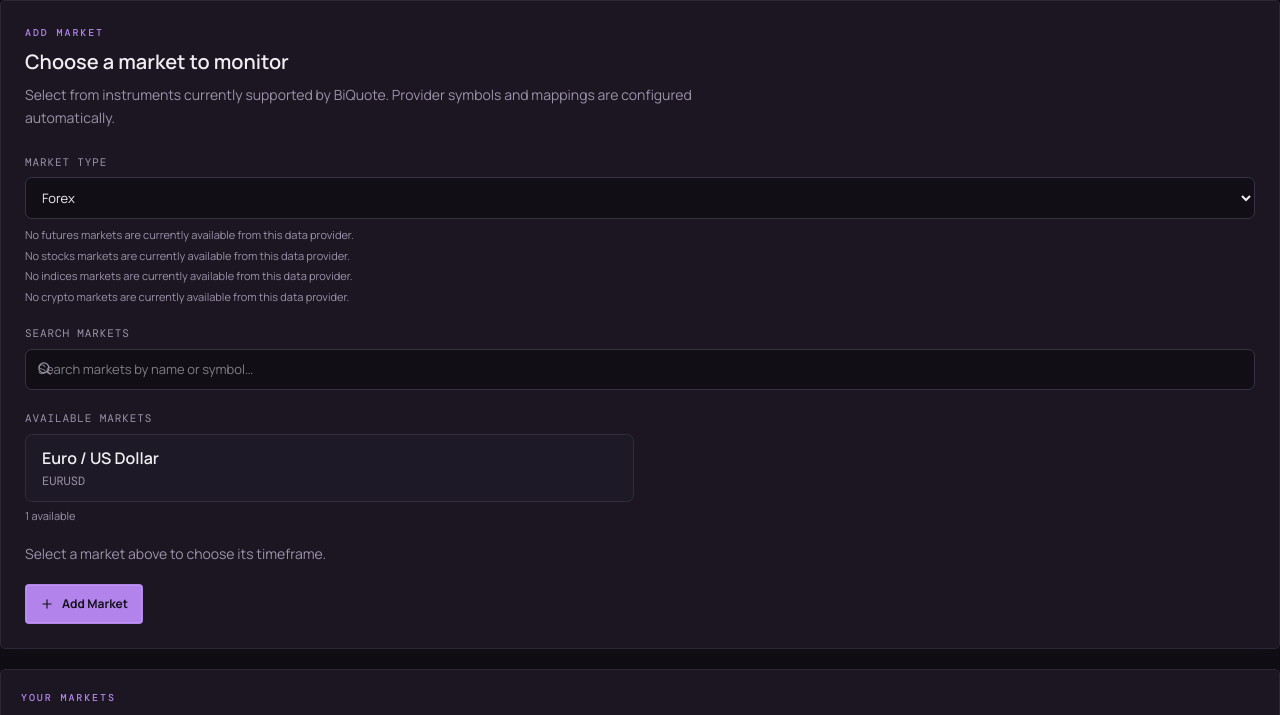
Test: Market Monitor live state › searches by human name or provider symbol and submits the selected timeframe
This screenshot has width=1280, height=715.
Later steps or results of the test are not shown.
Expected: the text "No futures markets are currently available from this data provider." is shown, top-left (25, 227), bottom-right (354, 242)
Select "Commodities" in the dropdown with test id "select-market-category" at (640, 198), box top-left (25, 177), bottom-right (1255, 219)
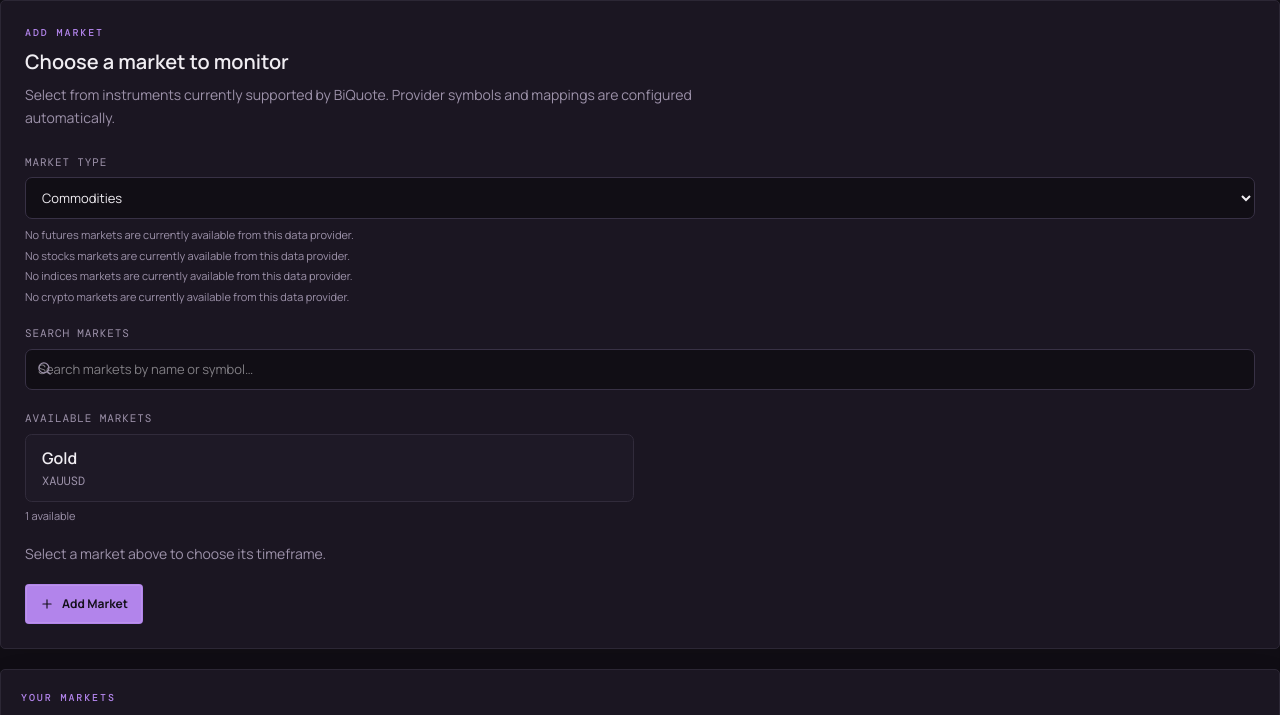
Type "gold" into the field with test id "input-search-markets" at (640, 369), box top-left (25, 348), bottom-right (1255, 390)
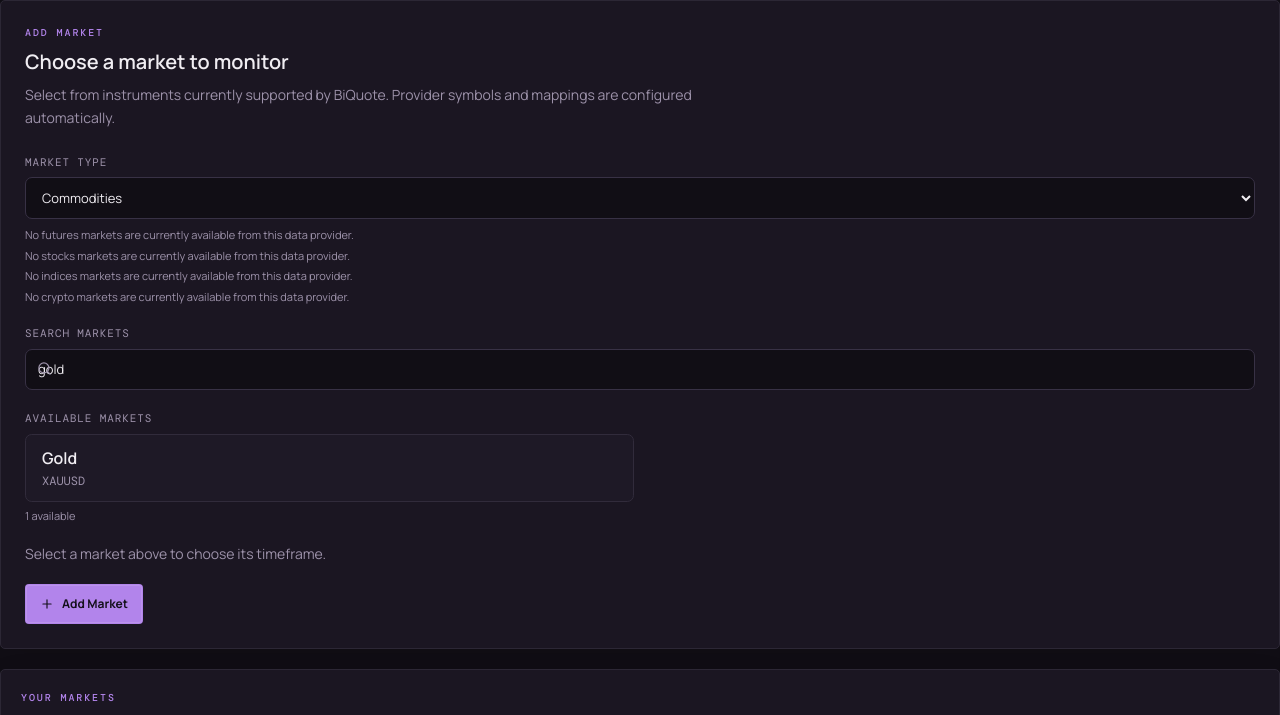
Now the option with test id "market-card-XAUUSD" is shown, box top-left (25, 434), bottom-right (634, 502)
Now the text "Gold" is shown, box top-left (42, 446), bottom-right (77, 468)
Replace the text in the field with test id "input-search-markets" with "XAU" at (640, 369), box top-left (25, 348), bottom-right (1255, 390)
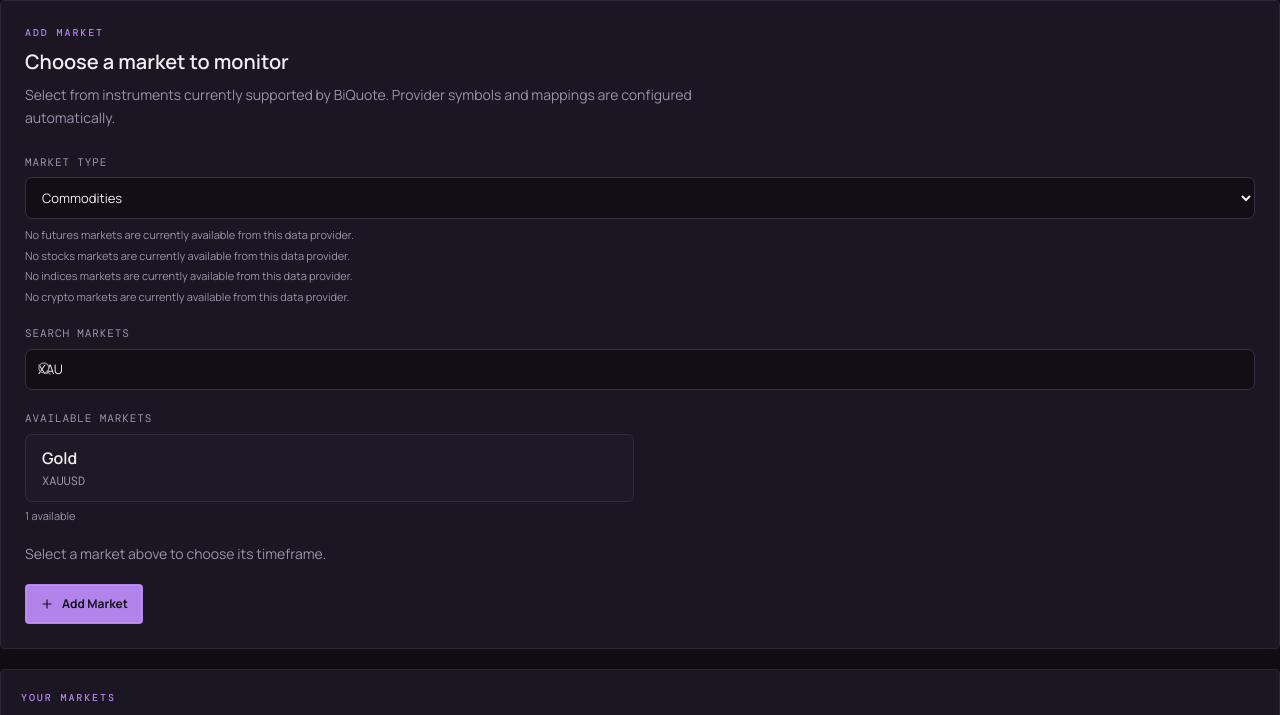
Now the option with test id "market-card-XAUUSD" is shown, box top-left (25, 434), bottom-right (634, 502)
